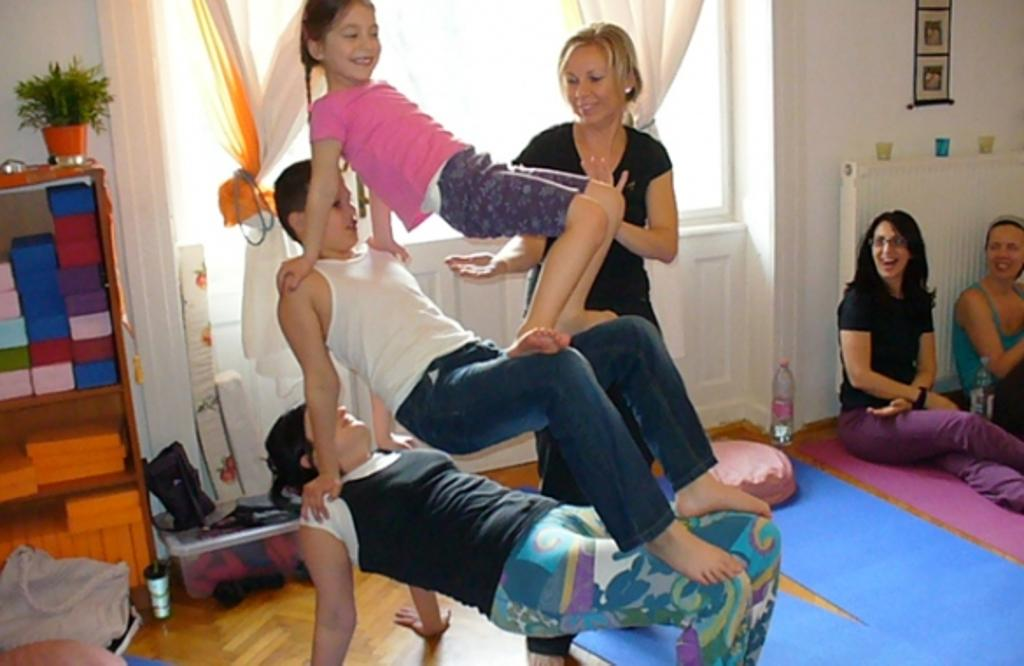face: (322, 1, 381, 81), (564, 47, 623, 125), (306, 173, 358, 249), (293, 402, 370, 452), (871, 225, 908, 277), (987, 227, 1024, 278)
